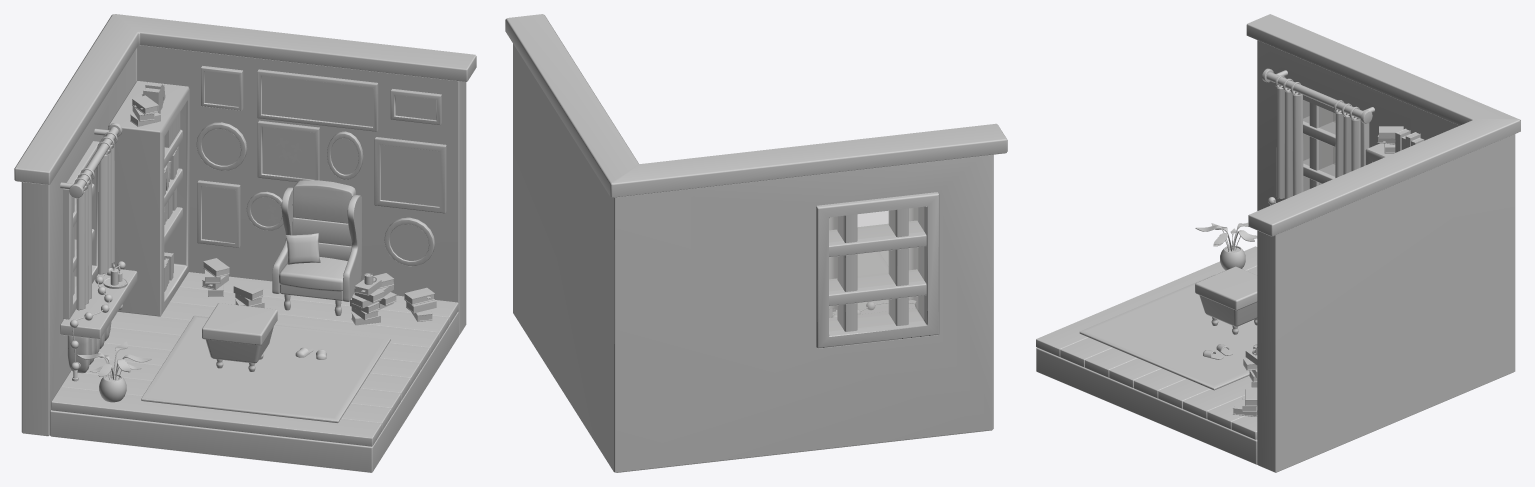
Rendered from Reading_Room_21.fbx.
3 views of the same model, side by side, from view 1: azimuth 30°, elevation 25°; view 2: azimuth 150°, elevation 25°; view 3: azimuth 270°, elevation 25° (orthographic). The views are drawn at different scales.
Parts seen in each view (by area): view 1: Room_21_Wall_1, Room_21_Floor_2, Room_21_Carpet_1, Room_21_Bookcase_1, Room_21_Floor_1, Room_21_Armchair_1, Room_21_Painting_4, Room_21_Painting_3, Room_21_Curtains_1, Room_21_Ottoman_1, Room_21_Painting_5, Room_21_Window_1 (+16 smaller); view 2: Room_21_Wall_1, Room_21_Window_1, Room_21_Carpet_1, Room_21_Curtains_1; view 3: Room_21_Wall_1, Room_21_Carpet_1, Room_21_Floor_2, Room_21_Curtains_1, Room_21_Floor_1, Room_21_Window_1, Room_21_Ottoman_1, Room_21_Plant_1, Room_21_Boosk_9.
Boxes of the visible parts, x1,y1,x2,y2 form: Room_21_Wall_1: [14, 14, 476, 436]; Room_21_Floor_2: [51, 272, 458, 446]; Room_21_Carpet_1: [141, 315, 390, 423]; Room_21_Bookcase_1: [108, 81, 189, 316]; Room_21_Floor_1: [49, 312, 458, 472]; Room_21_Armchair_1: [272, 180, 362, 315]; Room_21_Painting_4: [257, 69, 378, 131]; Room_21_Painting_3: [374, 137, 446, 213]; Room_21_Curtains_1: [60, 123, 122, 310]; Room_21_Ottoman_1: [202, 303, 277, 371]; Room_21_Painting_5: [257, 120, 319, 181]; Room_21_Window_1: [63, 141, 99, 319]; Room_21_Wall_1: [505, 14, 1007, 472]; Room_21_Window_1: [816, 192, 939, 348]; Room_21_Carpet_1: [836, 251, 910, 311]; Room_21_Curtains_1: [829, 207, 916, 309]; Room_21_Wall_1: [1246, 14, 1520, 472]; Room_21_Carpet_1: [1079, 274, 1257, 390]; Room_21_Floor_2: [1036, 246, 1257, 439]; Room_21_Curtains_1: [1262, 68, 1374, 199]; Room_21_Floor_1: [1036, 348, 1257, 464]; Room_21_Window_1: [1287, 88, 1369, 191]; Room_21_Ottoman_1: [1195, 266, 1257, 334]; Room_21_Plant_1: [1195, 222, 1257, 270]; Room_21_Boosk_9: [1233, 389, 1257, 416].
Size of the model in its own units: 734 by 410 by 713.
